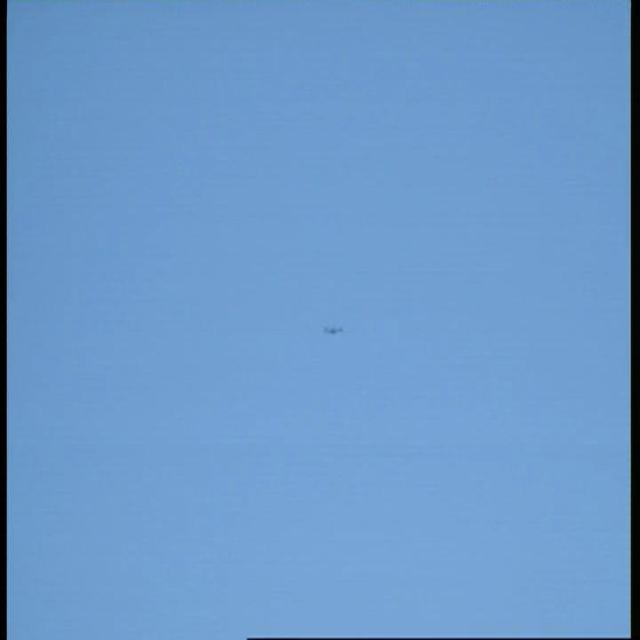drone: (318, 321, 350, 341)
